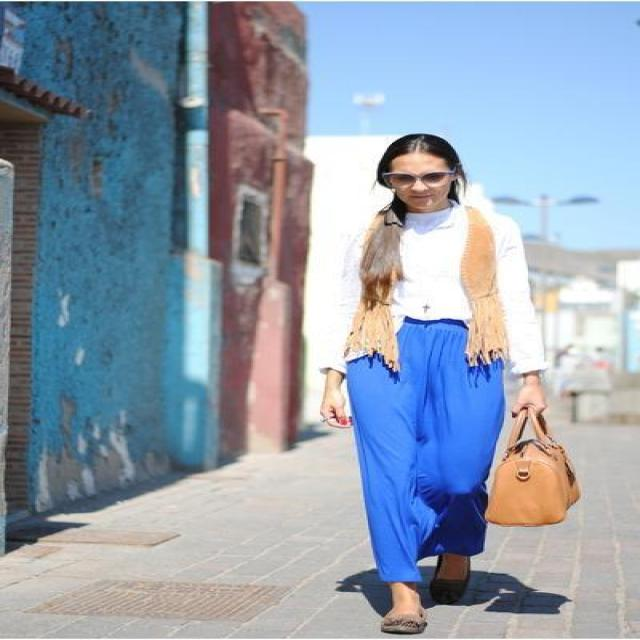bag: (485, 397, 579, 526)
pants: (342, 316, 506, 582)
shirt: (308, 205, 550, 372)
shoe: (403, 576, 464, 608)
